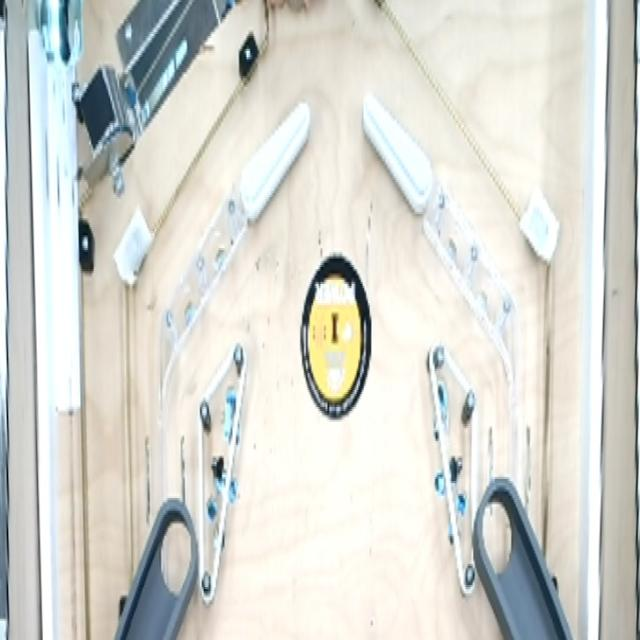flipper-left: (357, 86, 435, 237)
flipper-right: (237, 92, 314, 236)
